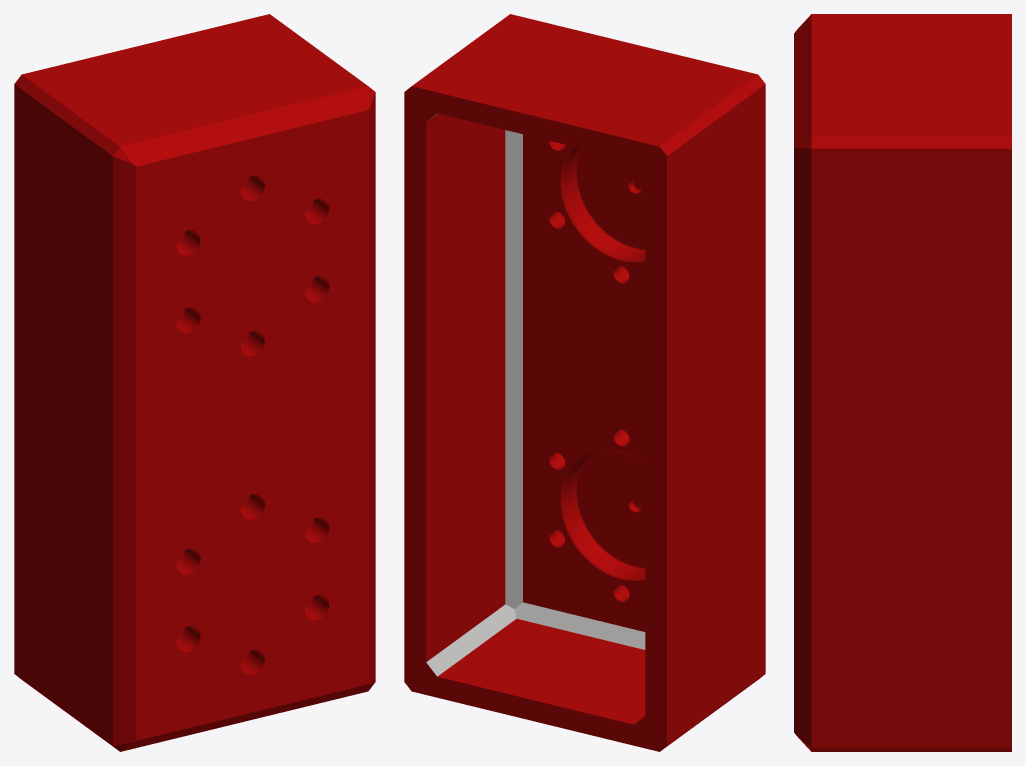
Rendered from (ReefCutter) rbs-tb-gf-gf-1-fm.glb.
3 renders of one model, left to right at view 1: azimuth 30°, elevation 25°; view 2: azimuth 150°, elevation 25°; view 3: azimuth 270°, elevation 25°, orthographic.
Parts seen in each view (by area): view 1: Solid1; view 2: Solid1; view 3: Solid1.
Boxes of the visible parts, x1=… form: Solid1: x1=14, y1=14, x2=375, y2=751; Solid1: x1=404, y1=14, x2=765, y2=751; Solid1: x1=794, y1=14, x2=1011, y2=751.
Bounding box in the file's own units: 0.354 × 0.779 × 0.25.
